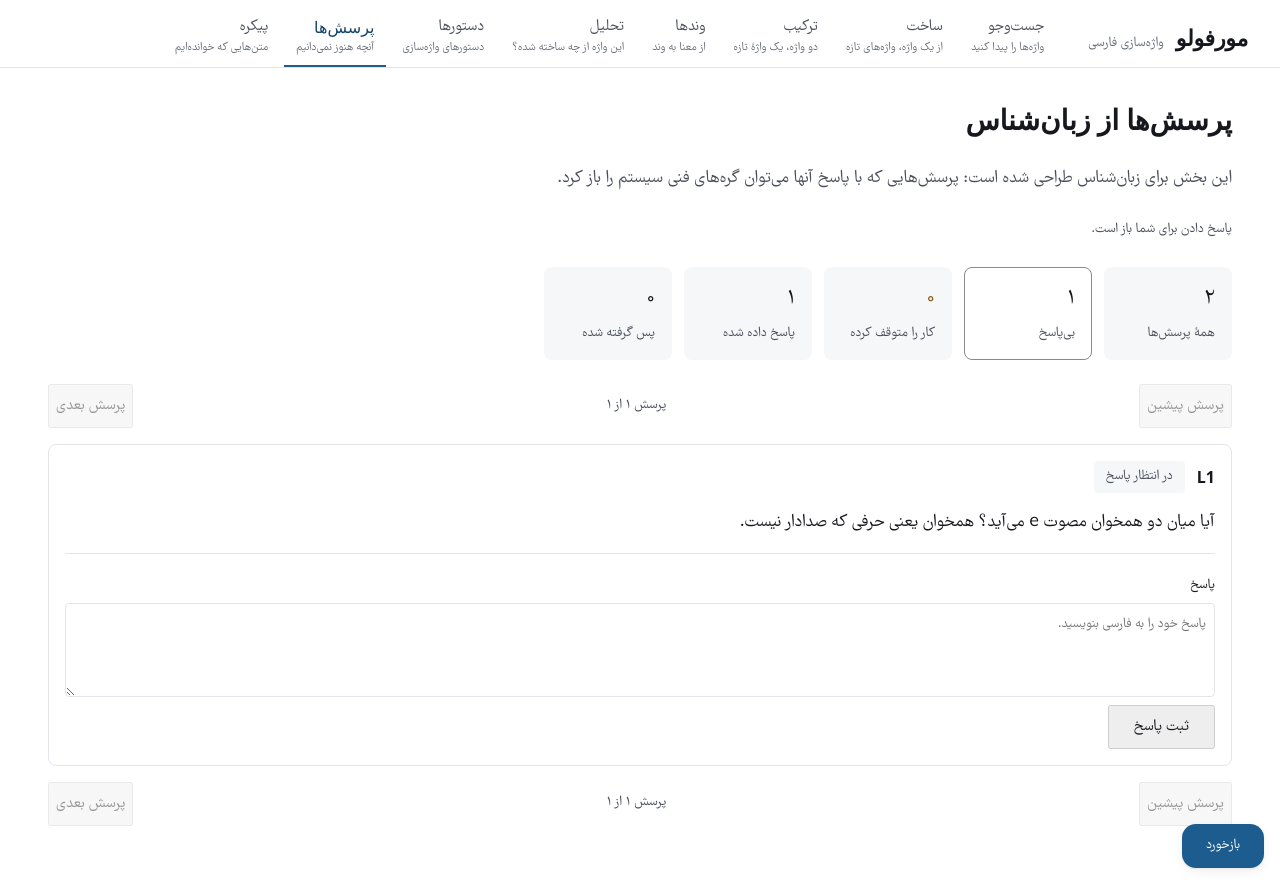
Test: the questions screen › counts the questions by state, and each count is the filter
Expected: the button "۱ پاسخ داده شده" is shown, [684,267,812,360]
Expected: the text "L2" is not shown
Click the button "۲ همهٔ پرسش‌ها" at (1168, 314), box [1104,267,1232,360]
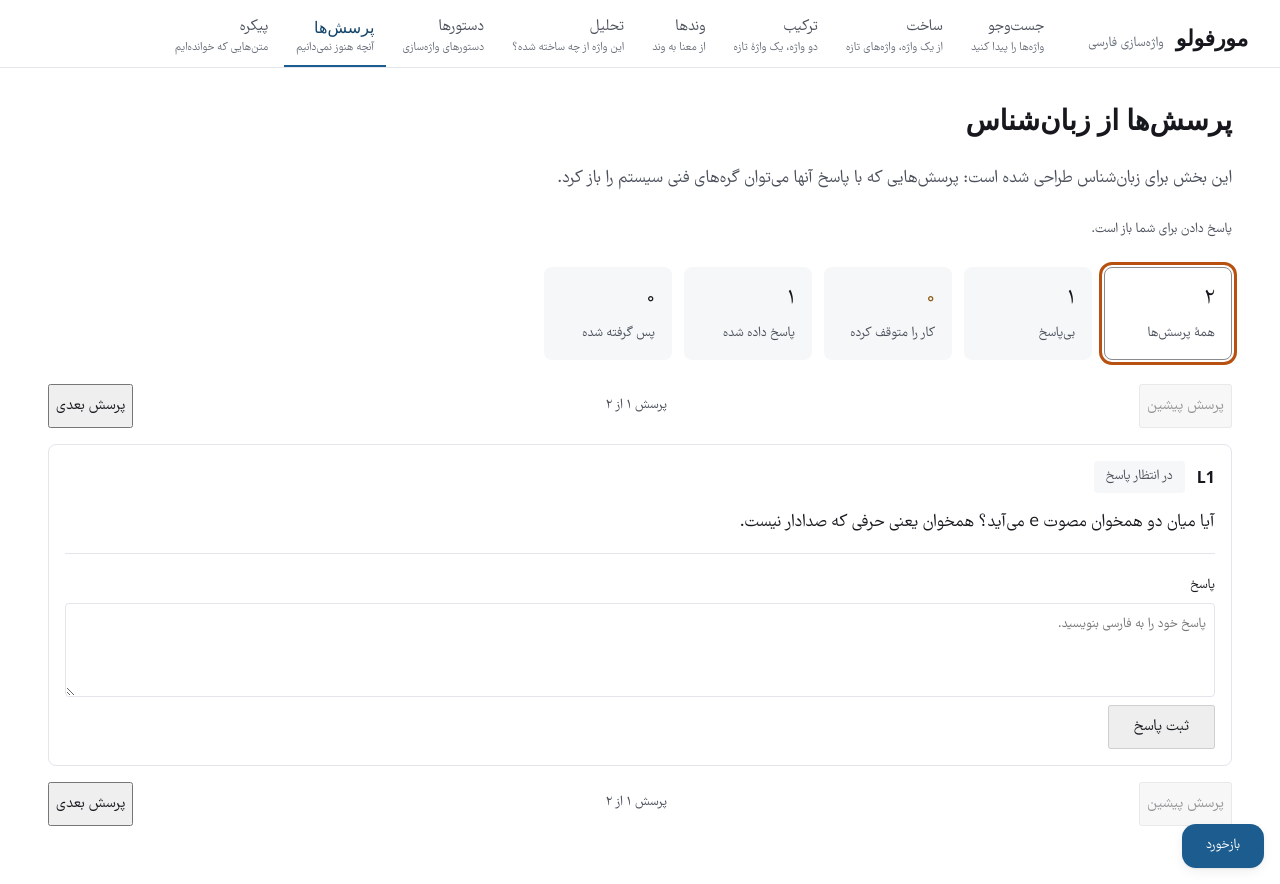
Expected: the text "L1" is shown, [1197,463,1215,491]
Click the 1st button "پرسش بعدی" at (91, 406), box [48,384,133,428]
(page scrolled)
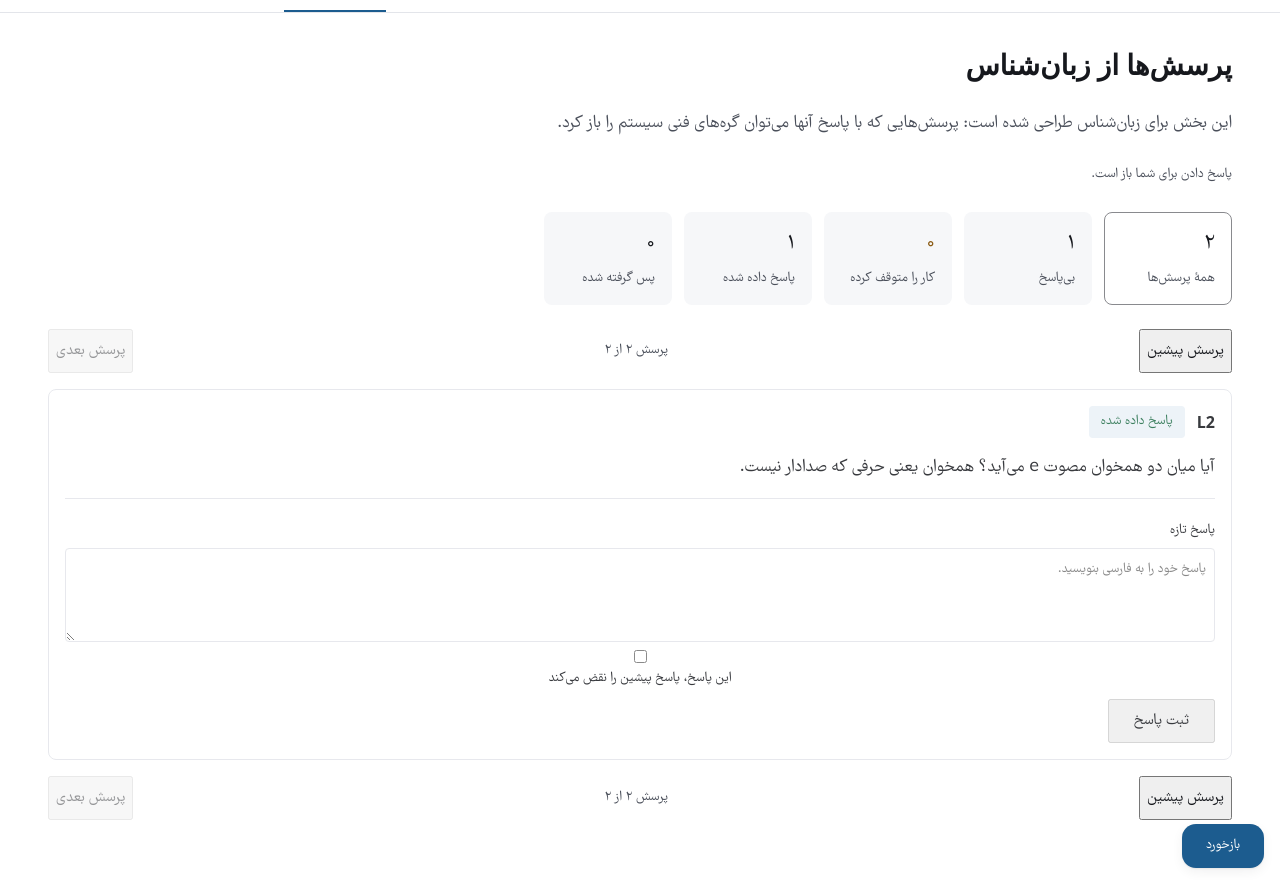
Expected: the text "L2" is shown, [1197,408,1215,436]
